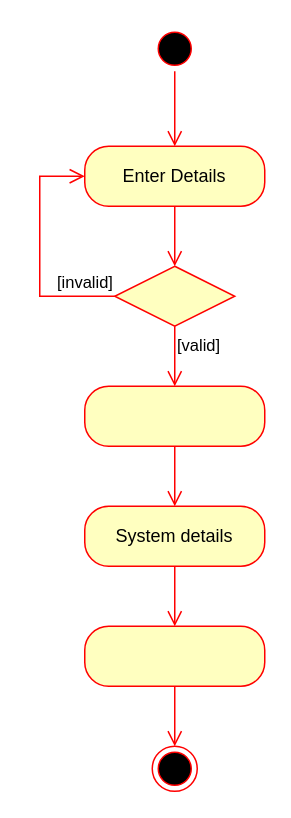
Image size: 291x818. Some labels were removed from this diagram. The shapes that lost their labels are listed below. From the top down, each one's centre as x and y in pixels, then its label:
At point (174, 415): "Class Details".
At point (174, 655): "Process Details".
